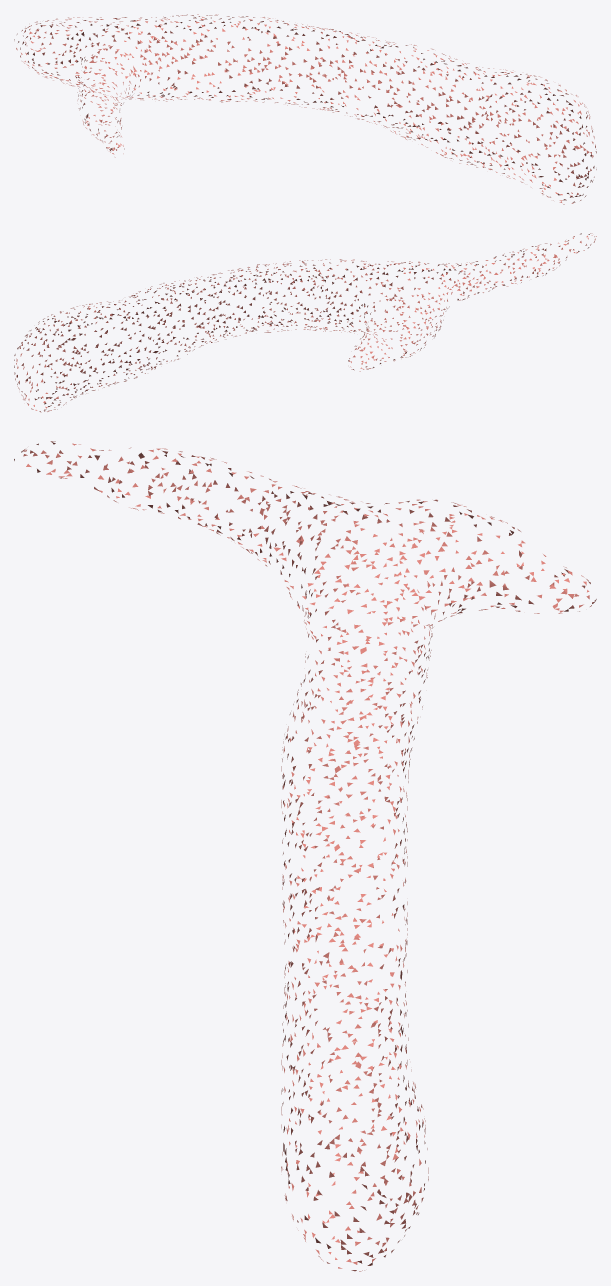
File: morph_001.glb
3 views of the same model, one above another, from view 1: azimuth 30°, elevation 25°; view 2: azimuth 150°, elevation 25°; view 3: azimuth 270°, elevation 25° (orthographic). The views are drawn at different scales.
Bounding box in the file's own units: 118 × 54.73 × 67.11.
